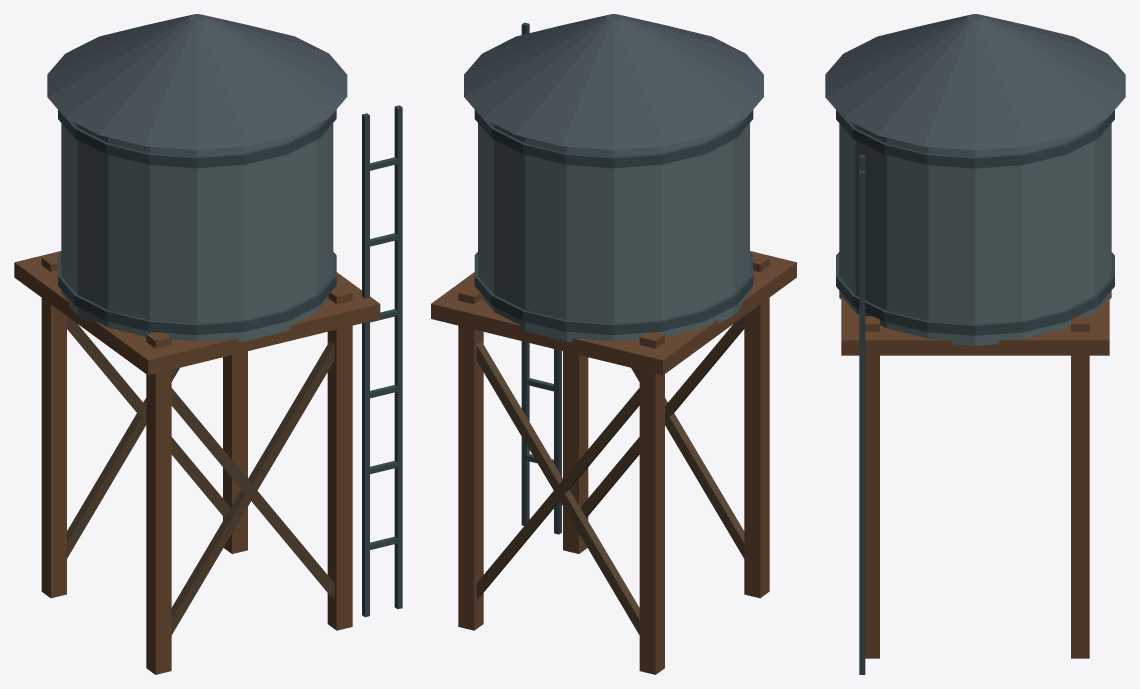
Rendered from Building_Settlement_CommunityWaterTower_001.glb.
3 renders of one model, left to right at view 1: azimuth 30°, elevation 25°; view 2: azimuth 150°, elevation 25°; view 3: azimuth 270°, elevation 25°, orthographic.
Visible parts, largest first — view 1: Building_Settlement_CommunityWaterTower_001; view 2: Building_Settlement_CommunityWaterTower_001; view 3: Building_Settlement_CommunityWaterTower_001.
Boxes of the visible parts, x1,y1,x2,y2 form: Building_Settlement_CommunityWaterTower_001: [14, 14, 402, 674]; Building_Settlement_CommunityWaterTower_001: [431, 14, 796, 674]; Building_Settlement_CommunityWaterTower_001: [825, 14, 1125, 674].
Size of the model in its own units: 3.86 by 7.8 by 3.58.
